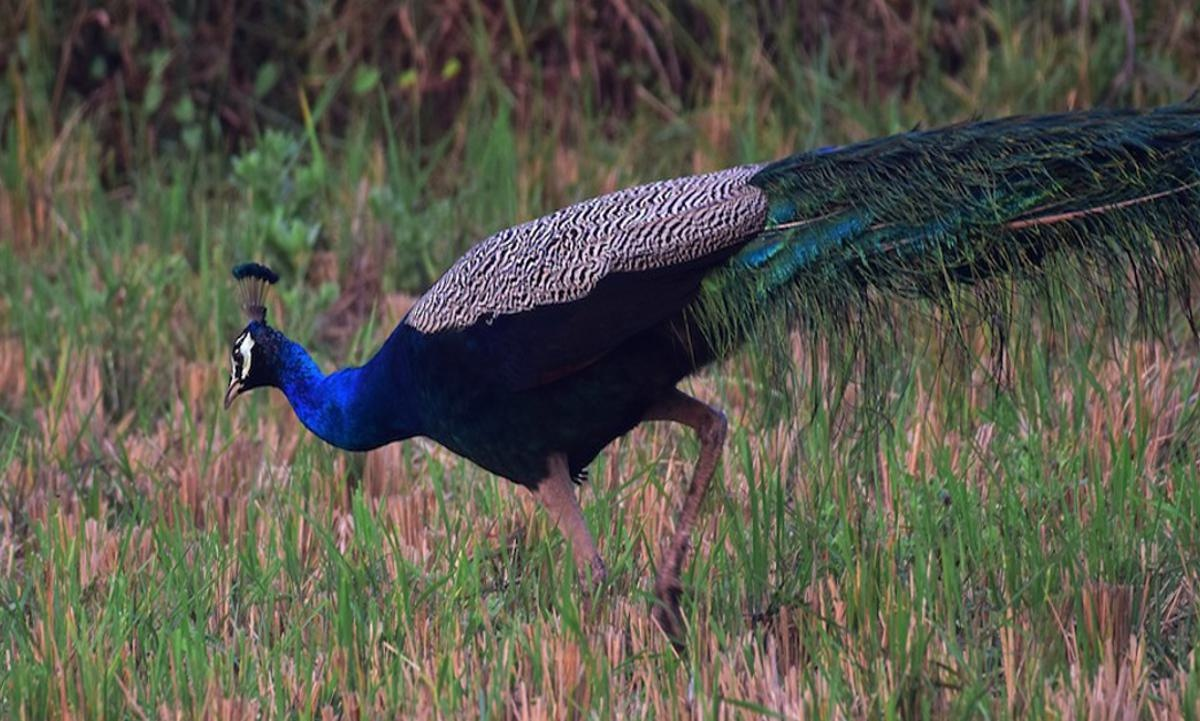peacock: (191, 94, 1141, 672)
